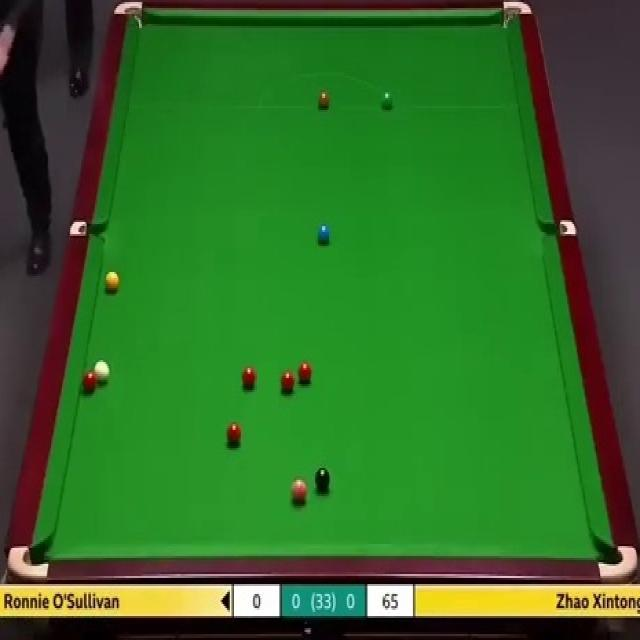black-ball: (315, 464, 329, 492)
blue-ball: (317, 226, 331, 244)
brown-ball: (318, 88, 330, 108)
green-ball: (379, 93, 393, 108)
pink-ball: (288, 479, 310, 504)
red-ball: (240, 366, 259, 392), (225, 419, 242, 447), (280, 371, 295, 394), (298, 360, 313, 382), (84, 370, 96, 396)
white-ball: (93, 360, 112, 382)
yellow-ball: (103, 270, 121, 293)
